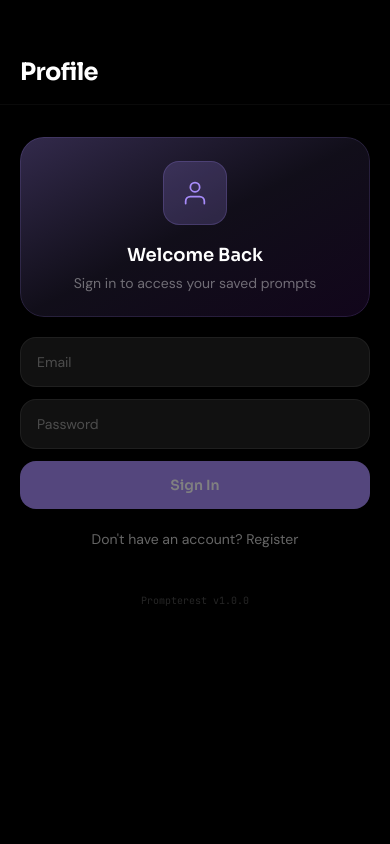
Test: ProfileScreen — unauthenticated › switches to register mode when toggle link is clicked
What coordinates should you click on to do the following:
click the button "Don't have an account? Register"
I would click on:
 (195, 539)
Its box is [20,521,370,557].
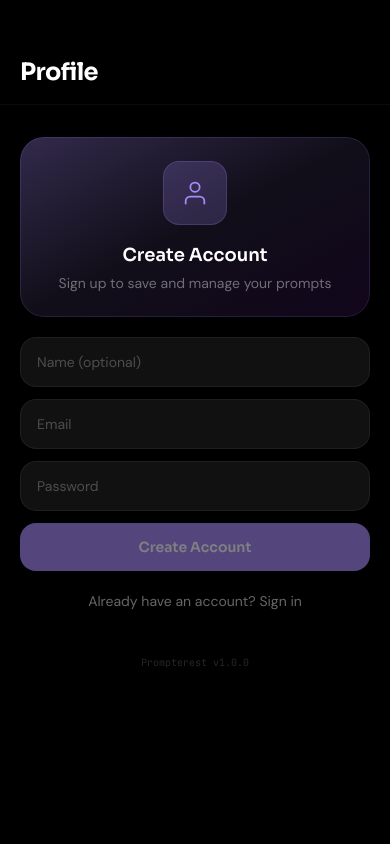
Result: the button "Create Account" is shown at [20,523,370,571]
